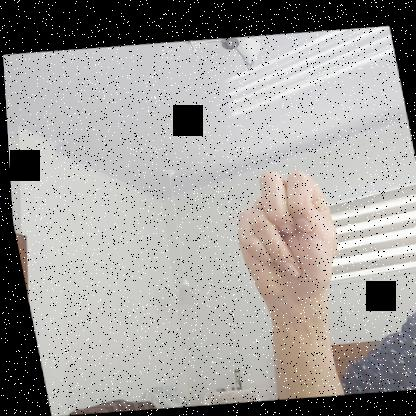N: (218, 152, 348, 310)
